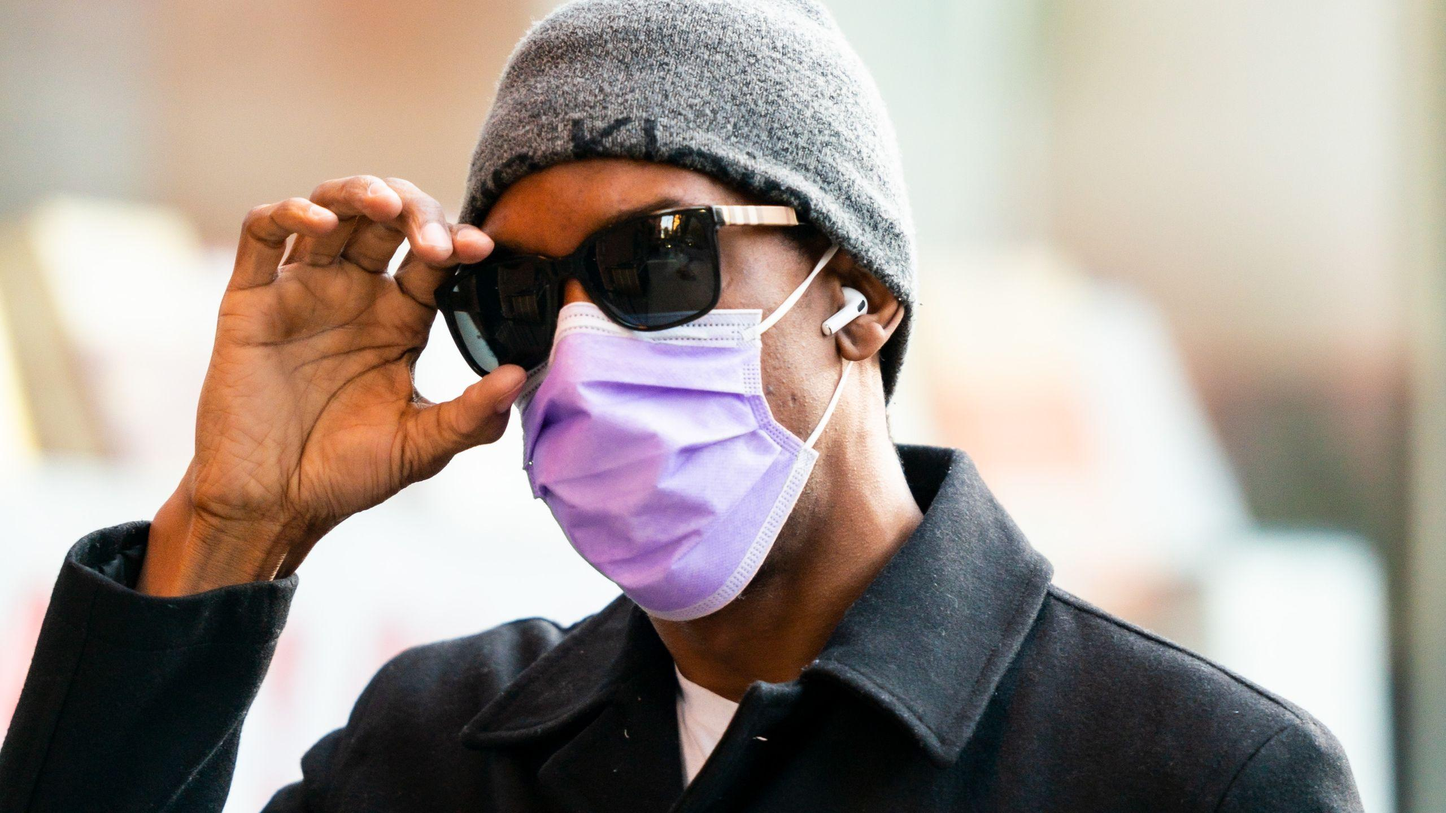cap: (431, 0, 1030, 331)
mask: (476, 290, 829, 634)
sunglasses: (405, 207, 740, 391)
